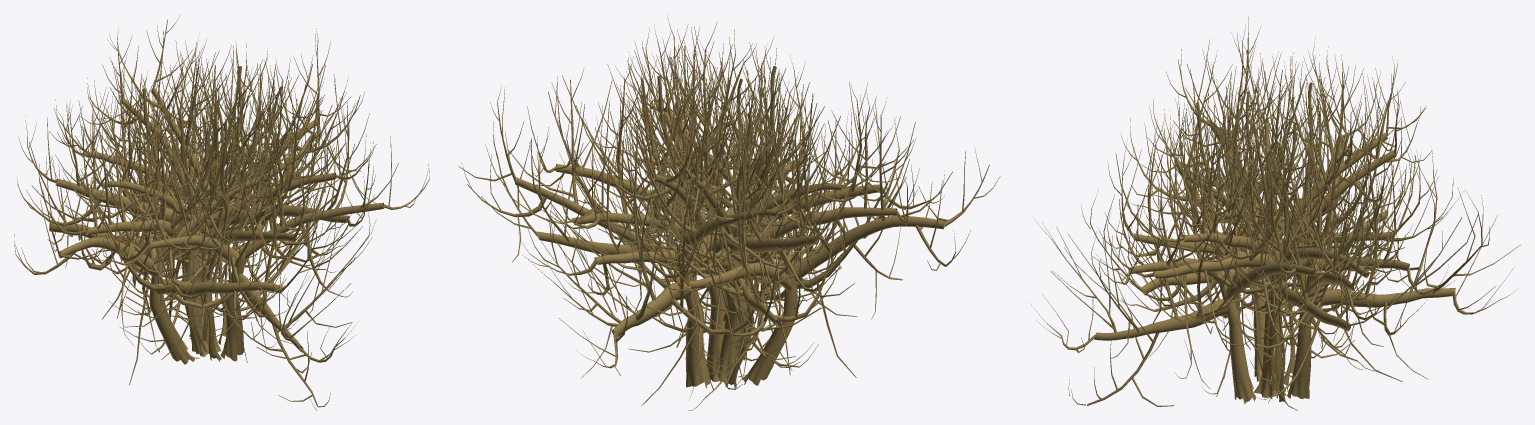
The model's file is Bush_01.fbx.
3 views of the same model, side by side, from view 1: azimuth 30°, elevation 25°; view 2: azimuth 150°, elevation 25°; view 3: azimuth 270°, elevation 25° (orthographic). The views are drawn at different scales.
Visible parts, largest first — view 1: Bush; view 2: Bush; view 3: Bush.
Part boxes in pixels (x1,y1,x2,y2): Bush: [14, 14, 429, 410]; Bush: [458, 16, 1000, 410]; Bush: [1031, 17, 1520, 410].
Size of the model in its own units: 152 by 112 by 148.
